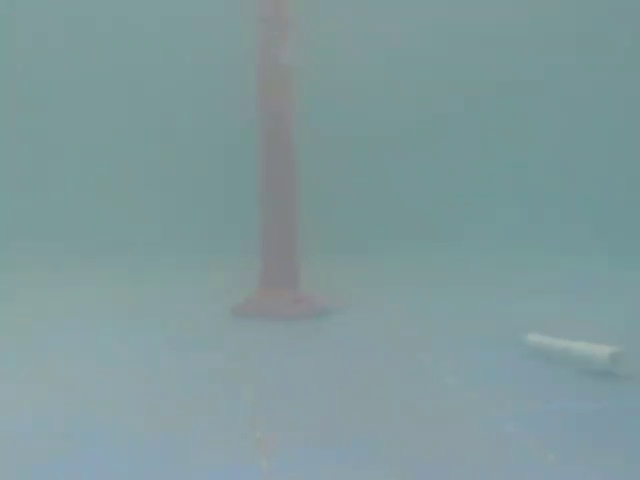flare: (226, 0, 334, 337)
